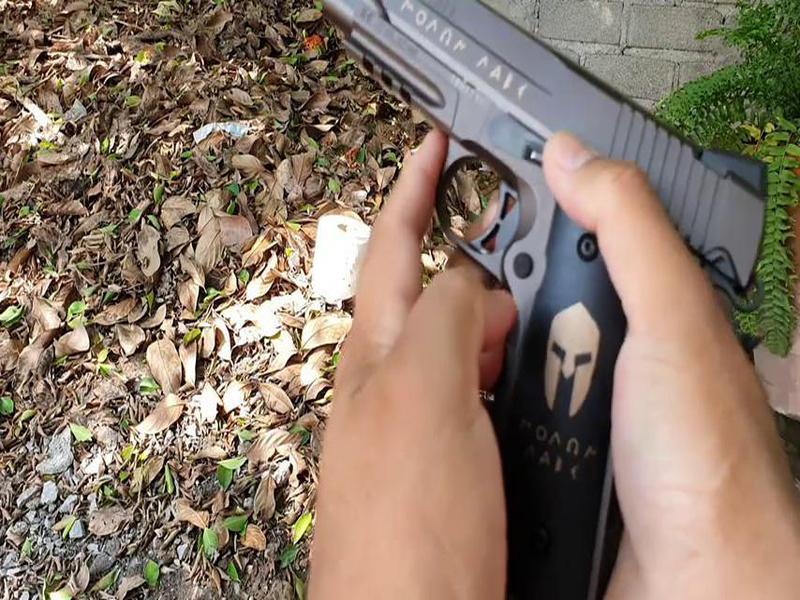Pistola: (306, 6, 768, 591)
